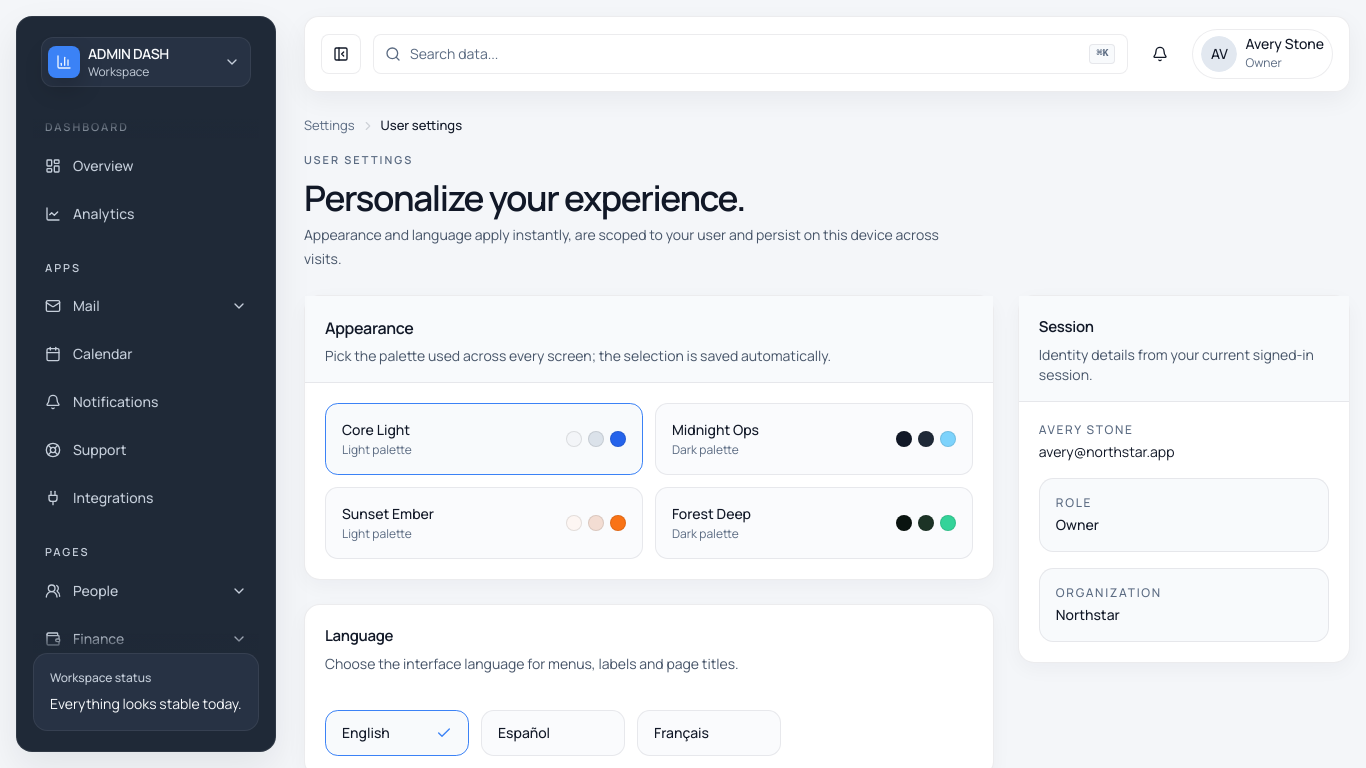
Test: user settings › switches the interface language from the language picker
The width and height of the screenshot is (1366, 768).
Expected: the heading "Personalize your experience." is shown, [304,173,745,222]
Click the radio button labelled "Español" at (553, 733), box [481,710,625,756]
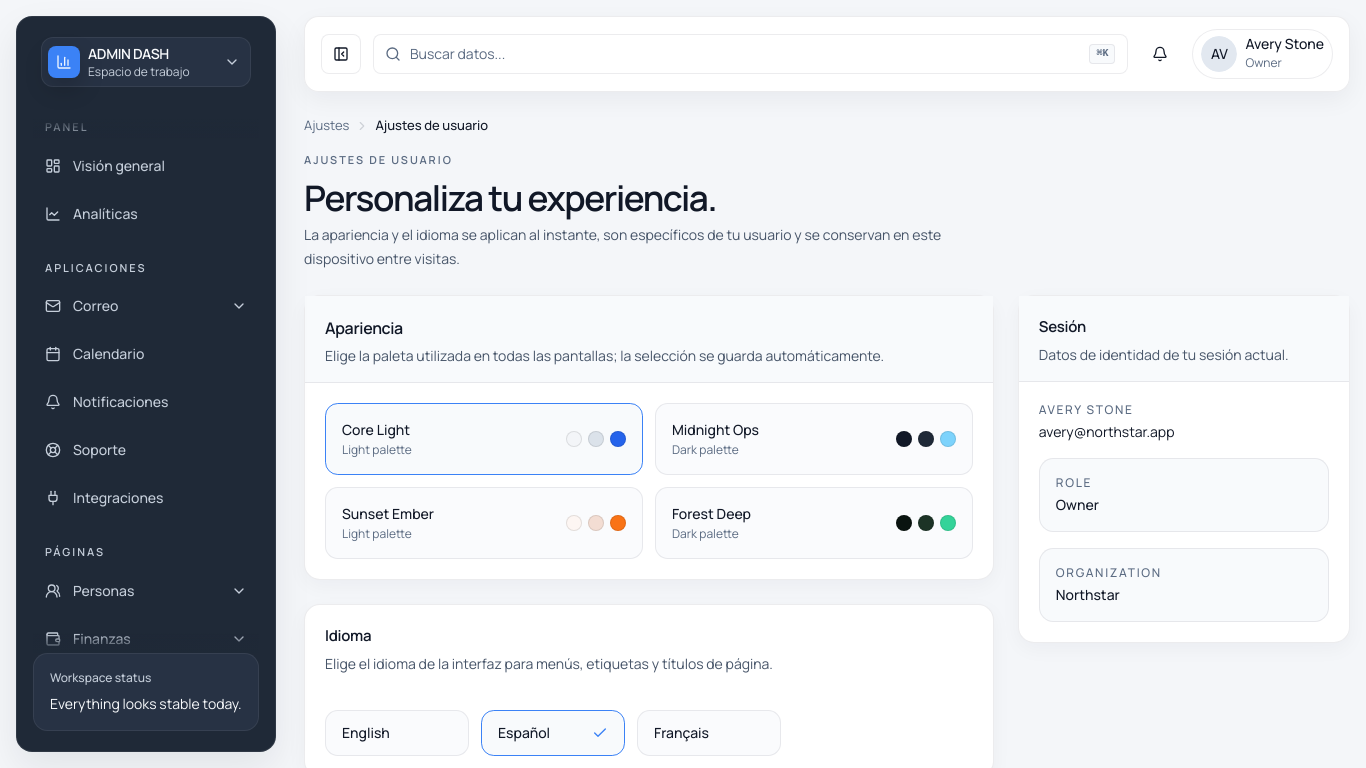
Expected: the link "Visión general" is shown, [45,156,165,174]
